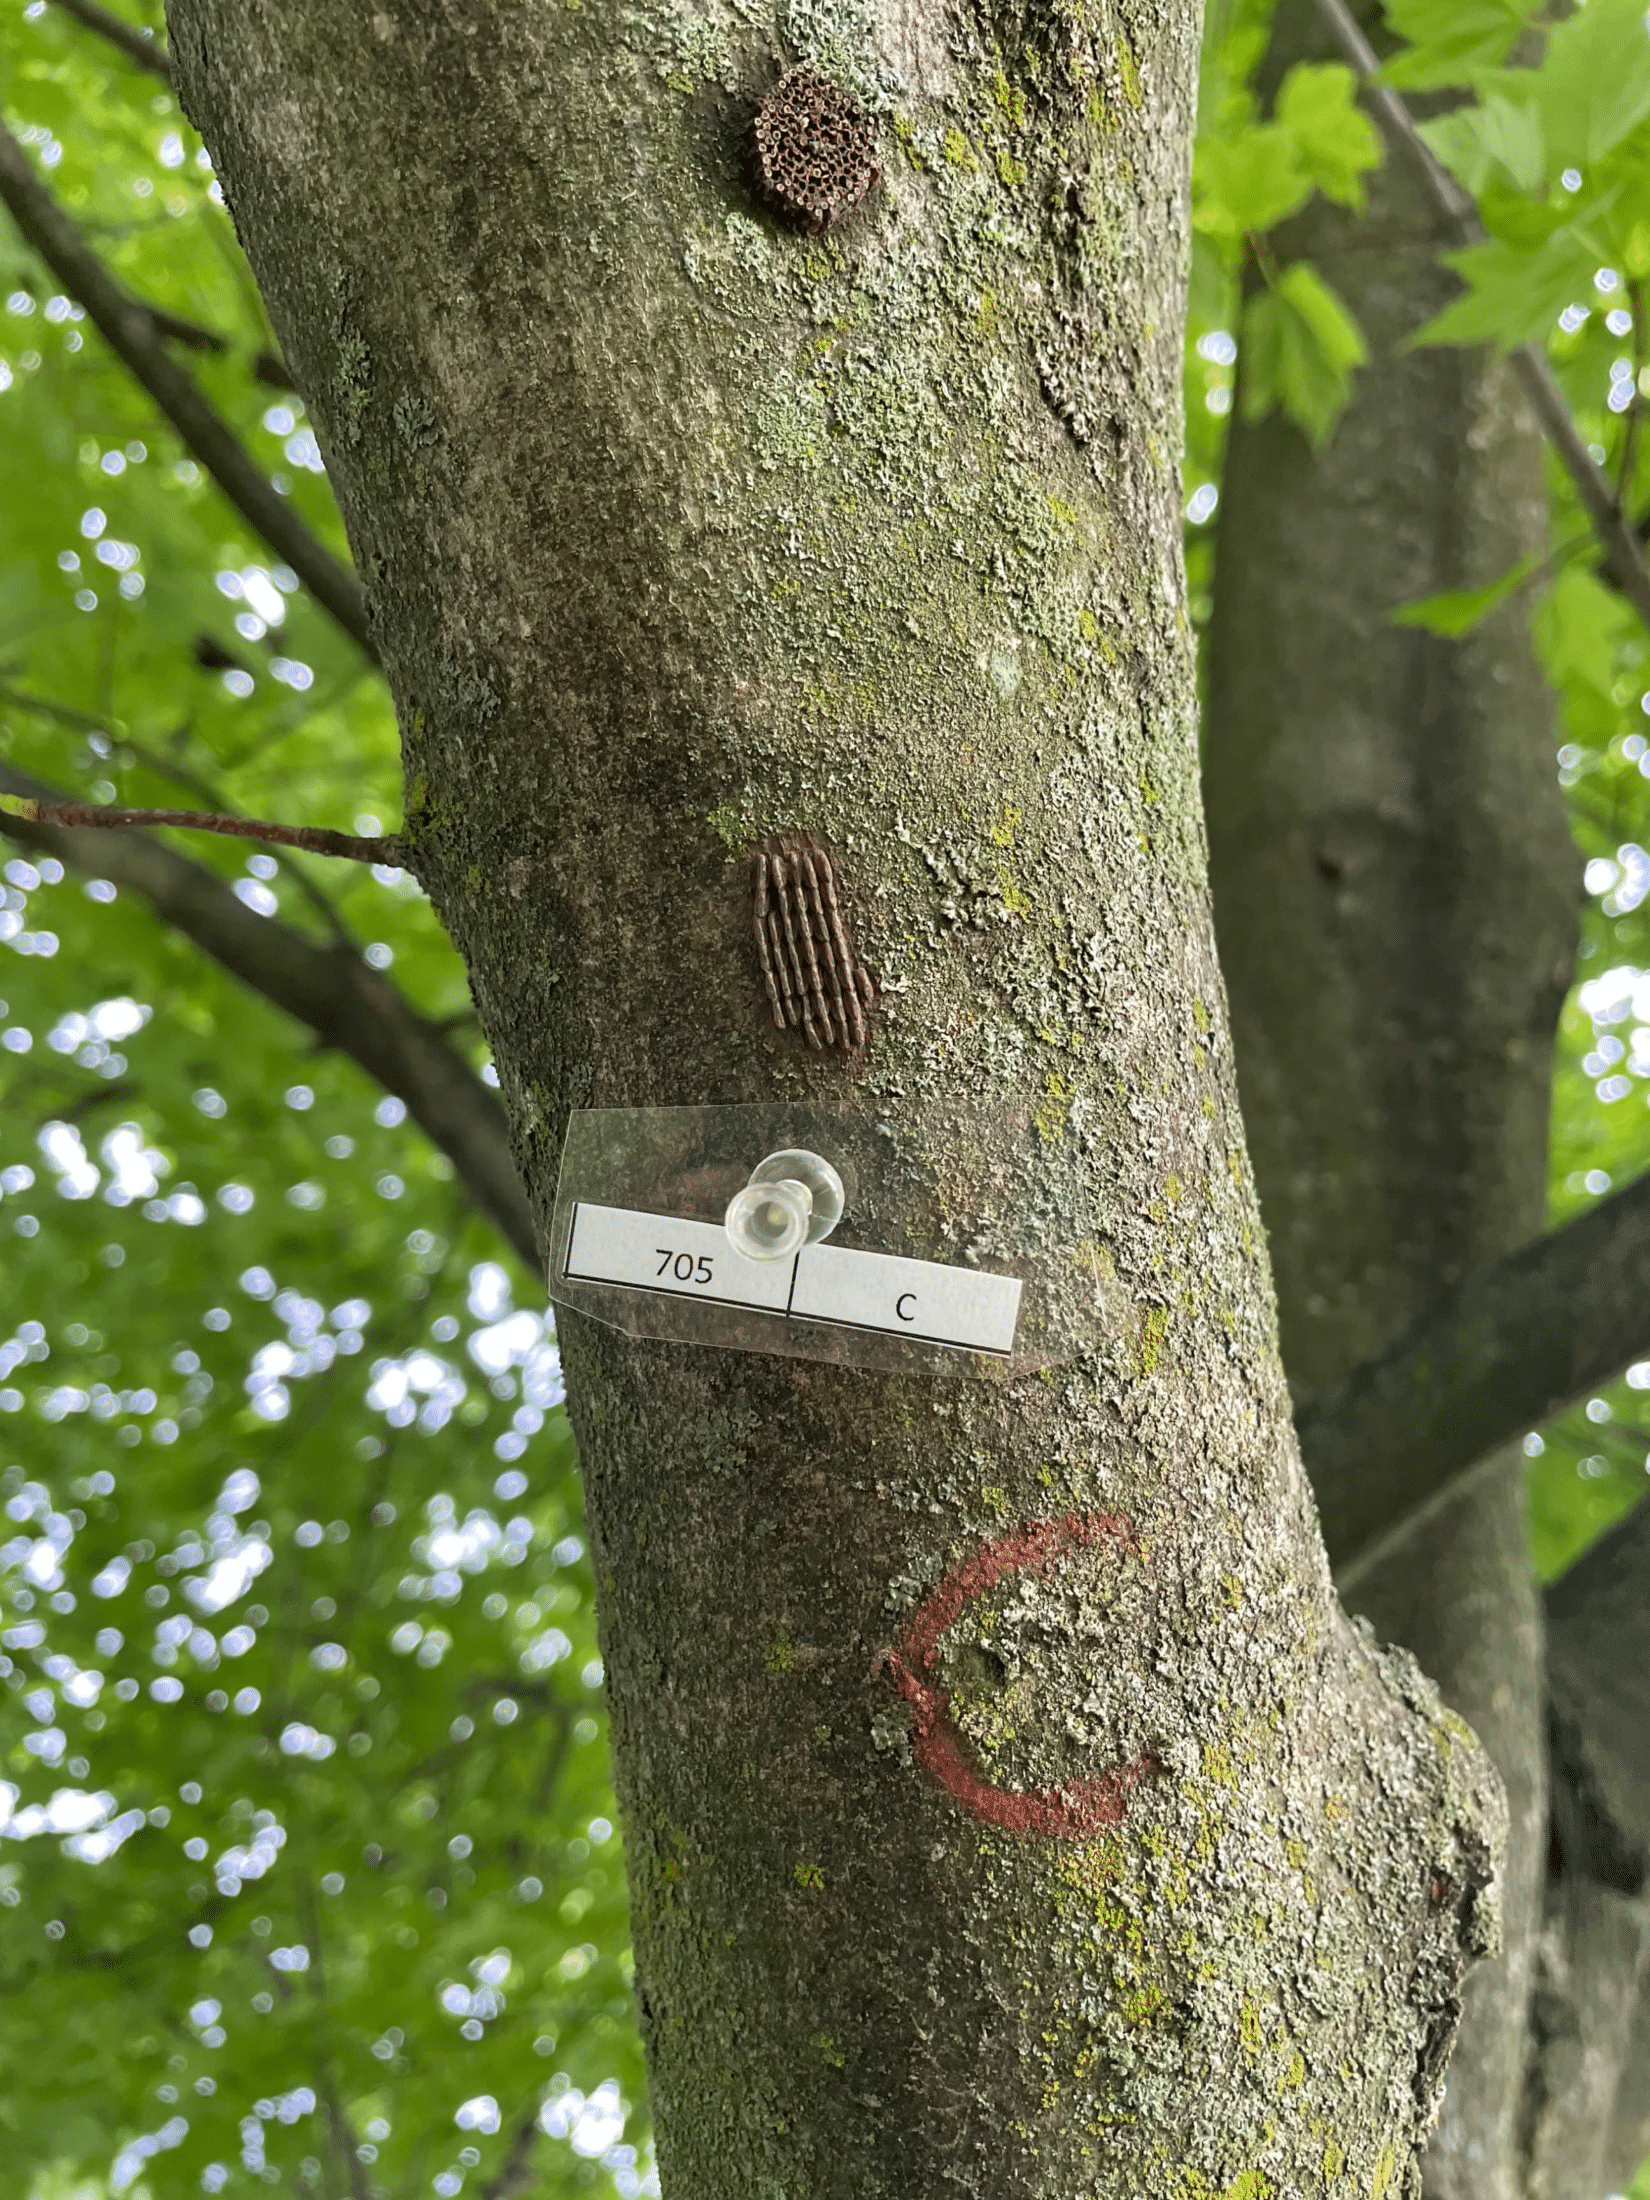egg masses: (728, 806, 884, 1084)
